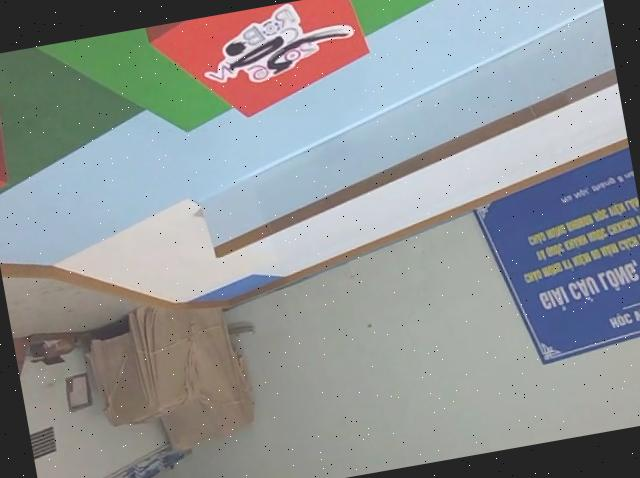R1: (140, 0, 380, 140)
